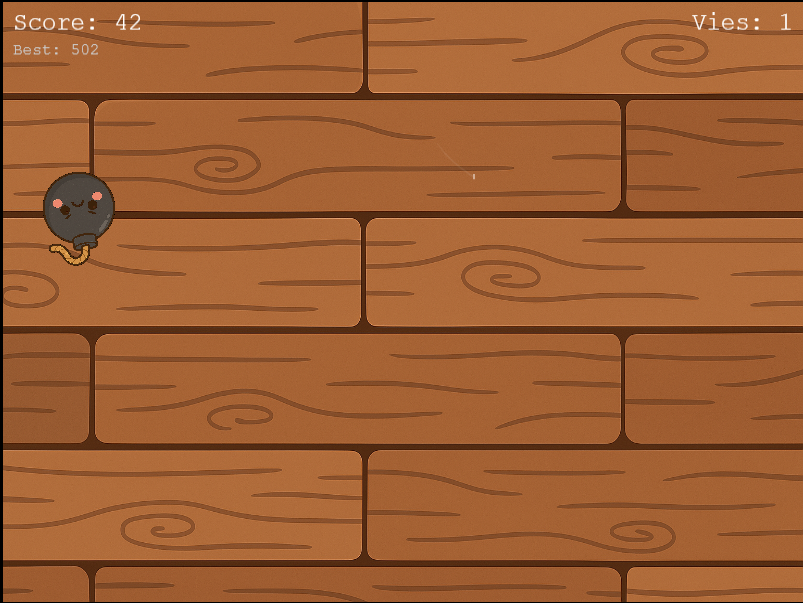bomb: (37, 167, 120, 272)
